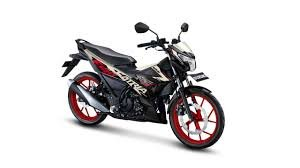motor: (55, 24, 227, 146)
